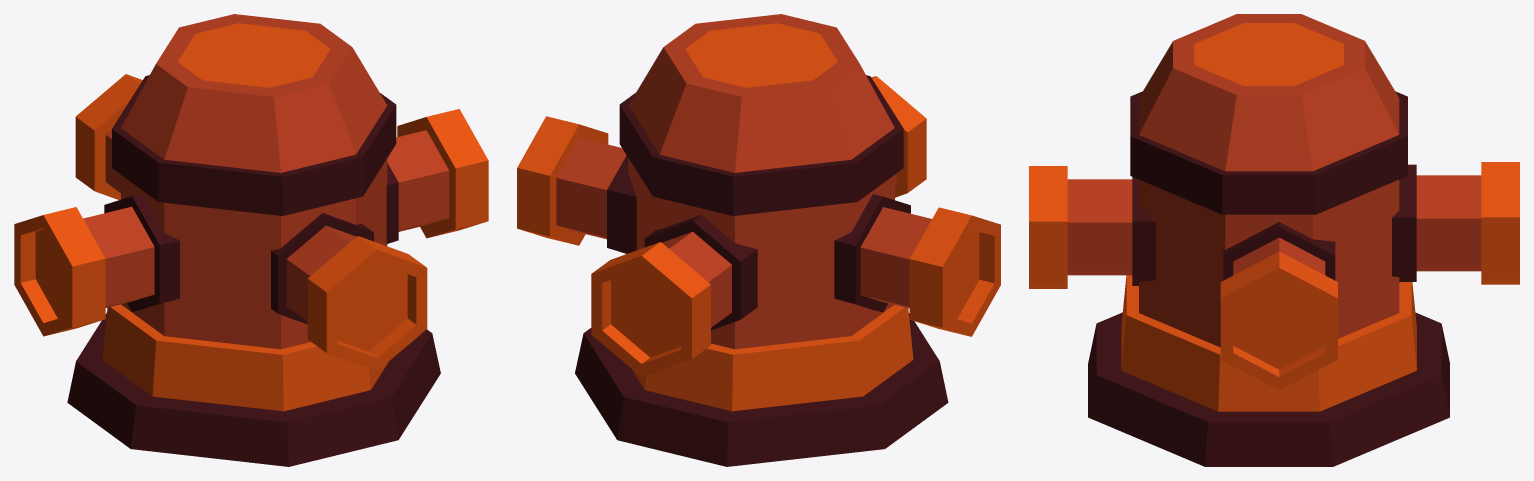
The model's file is Torch.fbx.
3 views of the same model, side by side, from view 1: azimuth 30°, elevation 25°; view 2: azimuth 150°, elevation 25°; view 3: azimuth 270°, elevation 25° (orthographic).
Visible parts, largest first — view 1: Cube.008, Cube.020; view 2: Cube.008, Cube.020; view 3: Cube.008, Cube.020.
Part boxes in pixels (left/top/right/bottom): Cube.008: left=67, top=14, right=440, bottom=466; Cube.020: left=14, top=74, right=488, bottom=371; Cube.008: left=575, top=14, right=948, bottom=466; Cube.020: left=517, top=76, right=1000, bottom=377; Cube.008: left=1088, top=14, right=1449, bottom=466; Cube.020: left=1029, top=162, right=1519, bottom=390.
Size of the model in its own units: 93.74 by 70.77 by 93.74.
